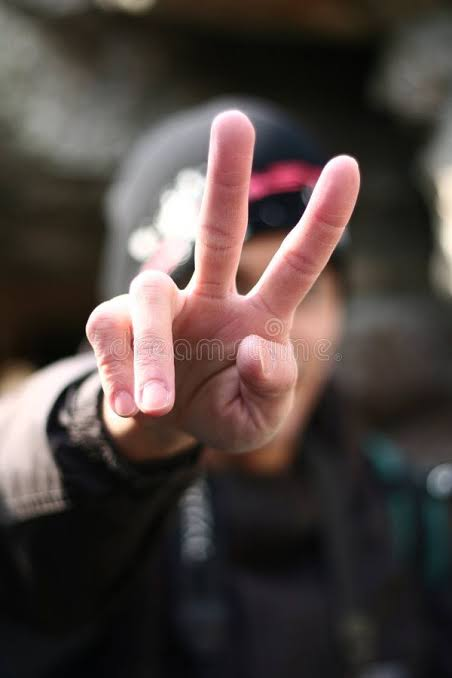peace_sign: (72, 102, 380, 455)
